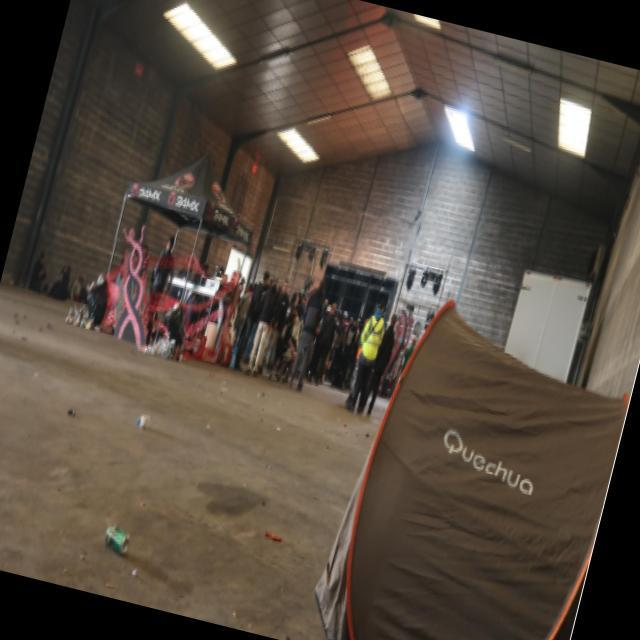shoes: (343, 398, 365, 415)
vest: (354, 311, 389, 364)
